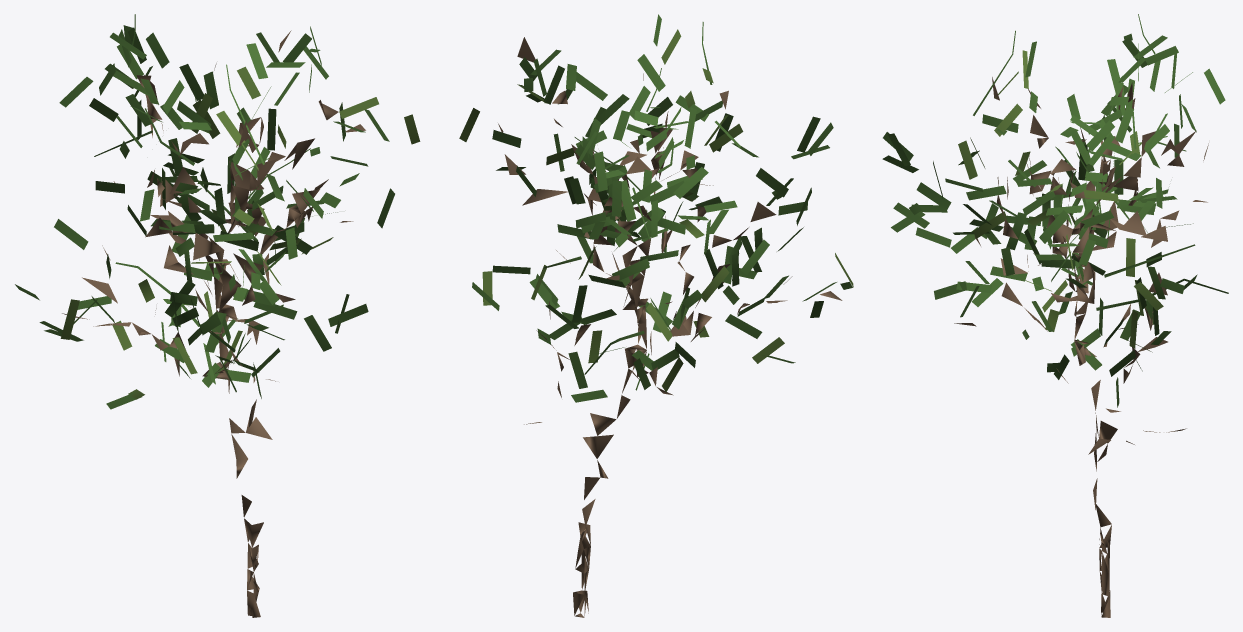
File: arvore_4_muito_longe.glb
3 renders of one model, left to right at view 1: azimuth 30°, elevation 25°; view 2: azimuth 150°, elevation 25°; view 3: azimuth 270°, elevation 25°, orthographic. The views are drawn at different scales.
Parts seen in each view (by area): view 1: arvore_4_muito_longe; view 2: arvore_4_muito_longe; view 3: arvore_4_muito_longe.
Boxes of the visible parts, left/top/right/bottom form: arvore_4_muito_longe: left=15, top=14, right=420, bottom=617; arvore_4_muito_longe: left=459, top=14, right=853, bottom=617; arvore_4_muito_longe: left=882, top=14, right=1228, bottom=617.
Size of the model in its own units: 2.18 by 3.2 by 1.81.
